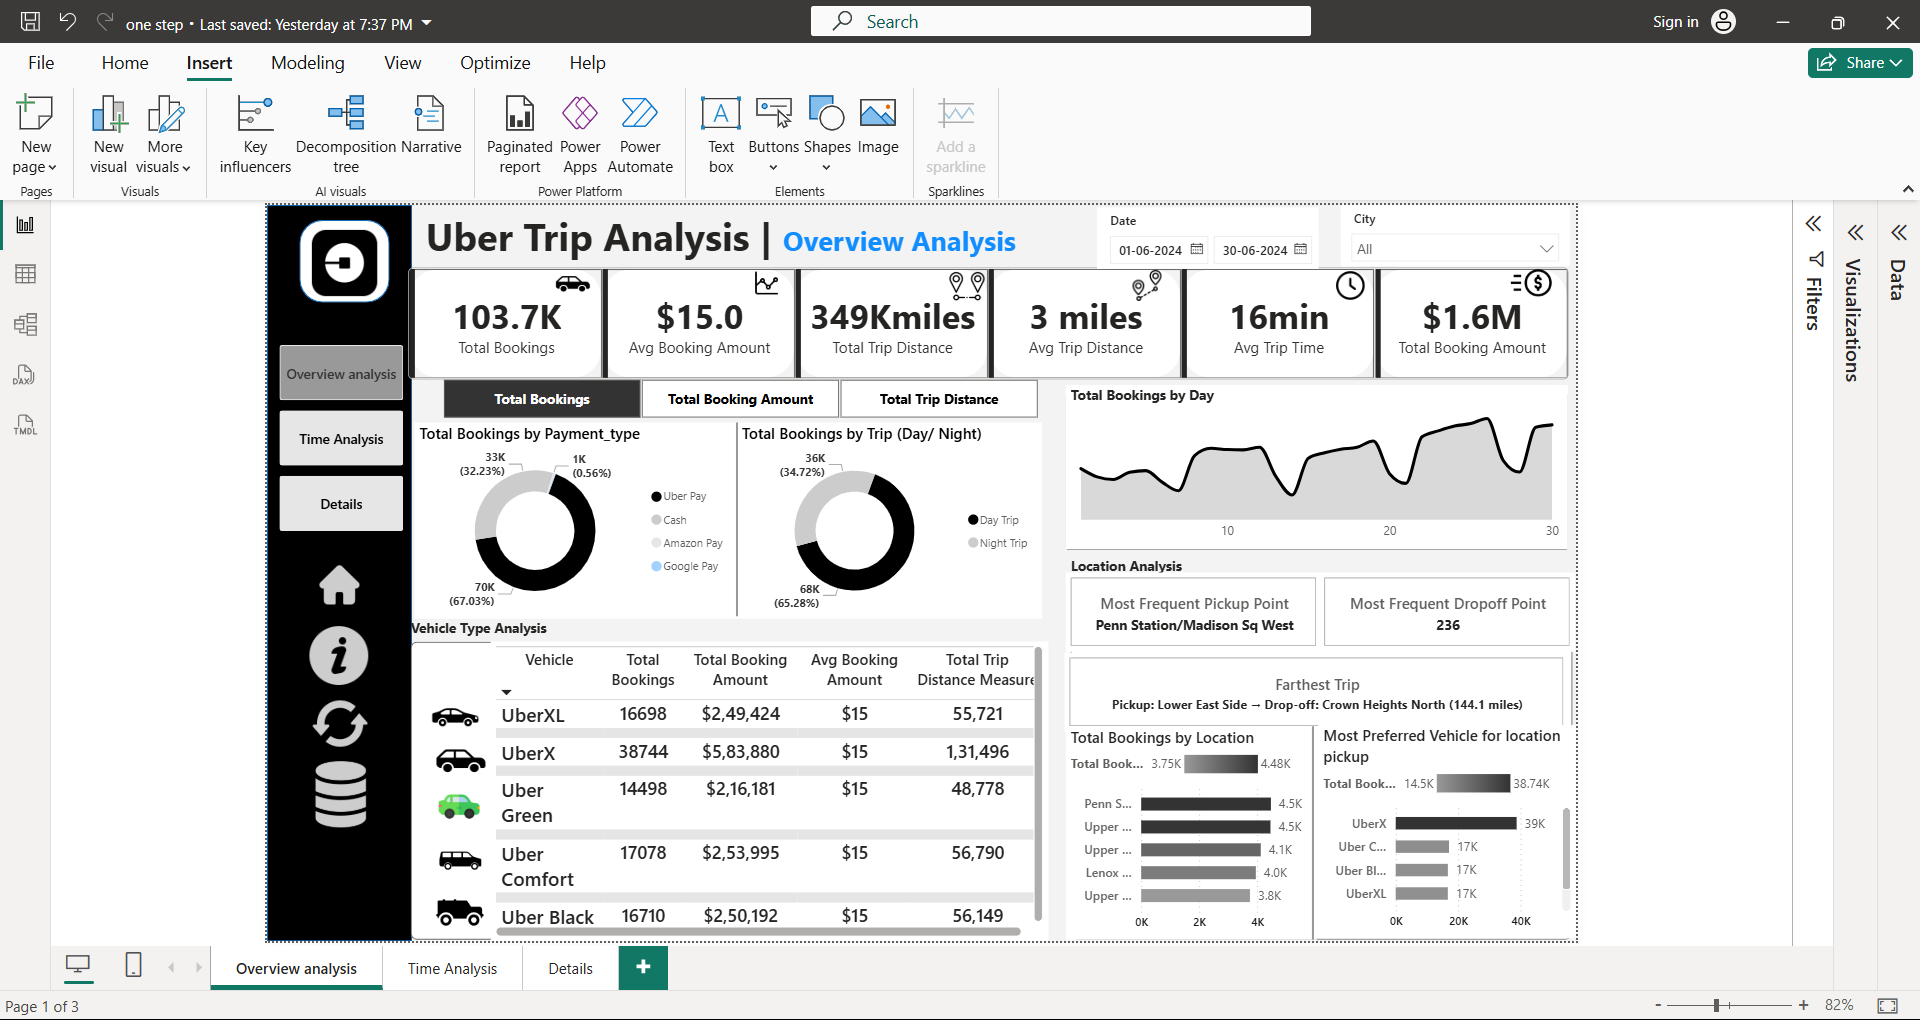

The dashboard page shown, as its layout file describes it:
{"tool":"powerbi","page":{"name":"Overview analysis","canvas":[1280,720],"ordinal":0},"visuals":[{"type":"shape","title":"Location Analysis","box":[785.7,344.2,490.9,375.3],"z":0},{"type":"shape","box":[0,0,141.8,720.2],"z":1000},{"type":"textbox","box":[150.4,0,672.6,64.8],"z":2000},{"type":"cardVisual","fields":{"Data":["Trip Details.Total Bookings","Trip Details.Avg Booking Amount","Trip Details.Total Trip Distance","Trip Details.Avg Trip Distance","Trip Details.Avg Trip Time","Trip Details.Total Booking Amount"]},"box":[133.3,56.3,1147,119.8],"z":3000},{"type":"image","box":[1200.8,51.4,72.1,50.1],"z":4000},{"type":"image","box":[831.5,58.7,61.1,40.4],"z":5000},{"type":"image","box":[1039.4,59.9,40.4,37.9],"z":6000},{"type":"image","box":[276.4,55,45.2,44],"z":7000},{"type":"image","box":[662.8,56.3,44,46.5],"z":8000},{"type":"image","box":[448.8,58.7,79.5,35.5],"z":9000},{"type":"slicer","fields":{"Values":["Parameter.Parameter"]},"box":[146.7,163.9,631,51.4],"z":10000},{"type":"donutChart","fields":{"Y":["Trip Details.Total Booking Amount"],"Category":["Trip Details.Payment_type"]},"box":[144.3,212.8,315.5,192],"z":11000},{"type":"donutChart","fields":{"Y":["Trip Details.Total Booking Amount"],"Category":["Trip Details.Trip Type (Day/ Night)","Trip Details.Payment_type"]},"box":[459.8,212.8,298.4,192],"z":12000},{"type":"shape","title":"Vehicle Type Analysis","box":[140.3,405.2,619.5,314.3],"z":13000},{"type":"pivotTable","fields":{"Rows":["Trip Details.Vehicle"],"Values":["Trip Details.Total Bookings","Trip Details.Total Booking Amount","Trip Details.Avg Booking Amount","Trip Details.Total Trip Distance Measure"]},"box":[218.9,426.8,545.4,293.5],"z":14000},{"type":"image","box":[144.3,470.8,79.5,61.1],"z":15000},{"type":"image","box":[148,563.7,79.5,50.1],"z":16000},{"type":"image","box":[159,613.9,59.9,55],"z":17000},{"type":"image","box":[157.7,513.6,63.6,59.9],"z":18000},{"type":"image","box":[145.5,664,86.8,56.3],"z":19000},{"type":"shape","title":"Vehicle Type Analysis","box":[781.4,184.6,491.6,152.9],"z":20000},{"type":"areaChart","fields":{"Category":["Calendar Table.Date.Variation.Date Hierarchy.Day"],"Y":["Trip Details.Total Bookings"]},"box":[781.8,176.6,490.9,161],"z":21000},{"type":"cardVisual","fields":{"Data":["Trip Details.Most Frequent Pickup Point","Trip Details.Most Frequent Dropoff Point"]},"box":[781.8,359.7,498.7,77.9],"z":22000},{"type":"cardVisual","fields":{"Data":["Trip Details.Farthest Trip"]},"box":[780.5,437.7,493.5,77.9],"z":23000},{"type":"barChart","fields":{"Category":["Location Table.Location"],"Y":["Trip Details.Total Bookings"]},"box":[781.8,510.4,245.5,209.1],"z":24000},{"type":"barChart","title":"Most Preferred Vehicle for location pickup","fields":{"Category":["Trip Details.Vehicle"],"Y":["CountNonNull(Trip Details.PULocationID)"]},"box":[1028.6,509.1,251.9,209.1],"z":25000},{"type":"shape","box":[434.1,212.8,51.4,189.5],"z":26000},{"type":"shape","box":[996.1,510.4,53.2,209.1],"z":27000},{"type":"slicer","fields":{"Values":["Calendar Table.Date"]},"box":[812,2.4,216.4,59.9],"z":28000},{"type":"slicer","fields":{"Values":["Location Table.City"]},"box":[1050.4,0,223.8,59.9],"z":29000},{"type":"pageNavigator","box":[12.2,137,121.1,183.4],"z":30000},{"type":"shape","box":[31.8,14.7,88,80.7],"z":31000},{"type":"image","box":[36.7,19.6,78.3,74.6],"z":32000},{"type":"image","box":[36.7,404.8,67.3,72.1],"z":33000},{"type":"image","box":[31.8,539.3,80.7,74.6],"z":34000},{"type":"image","box":[39.1,475.7,64.8,63.6],"z":35000},{"type":"image","box":[46.5,343.6,48.9,56.3],"z":36000}]}

Visuals, with their boxes on the page's 1280x720 design canvas (x1, y1, x2, y2). These are canvas units, not pixel positions in the 1920x1020 screenshot, which may show the page scaled, cropped or inside an application window:
"Location Analysis" shape: region(786, 344, 1277, 720)
shape: region(0, 0, 142, 720)
textbox: region(150, 0, 823, 65)
cardVisual - Trip Details.Total Bookings x Trip Details.Avg Booking Amount: region(133, 56, 1280, 176)
image: region(1201, 51, 1273, 102)
image: region(832, 59, 893, 99)
image: region(1039, 60, 1080, 98)
image: region(276, 55, 322, 99)
image: region(663, 56, 707, 103)
image: region(449, 59, 528, 94)
slicer - Parameter.Parameter: region(147, 164, 778, 215)
donutChart - Trip Details.Total Booking Amount x Trip Details.Payment_type: region(144, 213, 460, 405)
donutChart - Trip Details.Total Booking Amount x Trip Details.Trip Type (Day/ Night): region(460, 213, 758, 405)
"Vehicle Type Analysis" shape: region(140, 405, 760, 720)
pivotTable - Trip Details.Vehicle x Trip Details.Total Bookings: region(219, 427, 764, 720)
image: region(144, 471, 224, 532)
image: region(148, 564, 228, 614)
image: region(159, 614, 219, 669)
image: region(158, 514, 221, 574)
image: region(146, 664, 232, 720)
"Vehicle Type Analysis" shape: region(781, 185, 1273, 338)
areaChart - Calendar Table.Date.Variation.Date Hierarchy.Day x Trip Details.Total Bookings: region(782, 177, 1273, 338)
cardVisual - Trip Details.Most Frequent Pickup Point x Trip Details.Most Frequent Dropoff Point: region(782, 360, 1280, 438)
cardVisual - Trip Details.Farthest Trip: region(780, 438, 1274, 516)
barChart - Location Table.Location x Trip Details.Total Bookings: region(782, 510, 1027, 720)
"Most Preferred Vehicle for location pickup" barChart: region(1029, 509, 1280, 718)
shape: region(434, 213, 486, 402)
shape: region(996, 510, 1049, 720)
slicer - Calendar Table.Date: region(812, 2, 1028, 62)
slicer - Location Table.City: region(1050, 0, 1274, 60)
pageNavigator: region(12, 137, 133, 320)
shape: region(32, 15, 120, 95)
image: region(37, 20, 115, 94)
image: region(37, 405, 104, 477)
image: region(32, 539, 112, 614)
image: region(39, 476, 104, 539)
image: region(46, 344, 95, 400)
